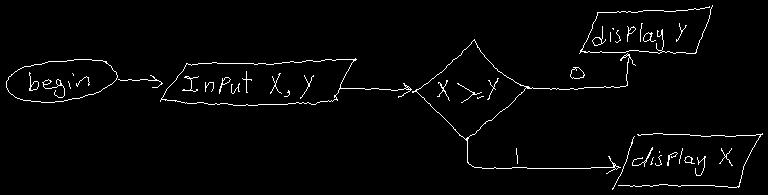arrow: (466, 137, 620, 173), (527, 53, 635, 89), (340, 83, 411, 97), (118, 75, 162, 87)
data: (160, 58, 356, 105), (612, 133, 762, 189), (579, 5, 712, 53)
decision: (412, 39, 528, 140)
terminator: (6, 59, 117, 102)
text: (182, 71, 313, 98), (632, 147, 732, 175), (592, 23, 686, 50), (29, 72, 89, 97), (437, 78, 498, 102), (570, 67, 584, 78), (515, 148, 518, 163)
